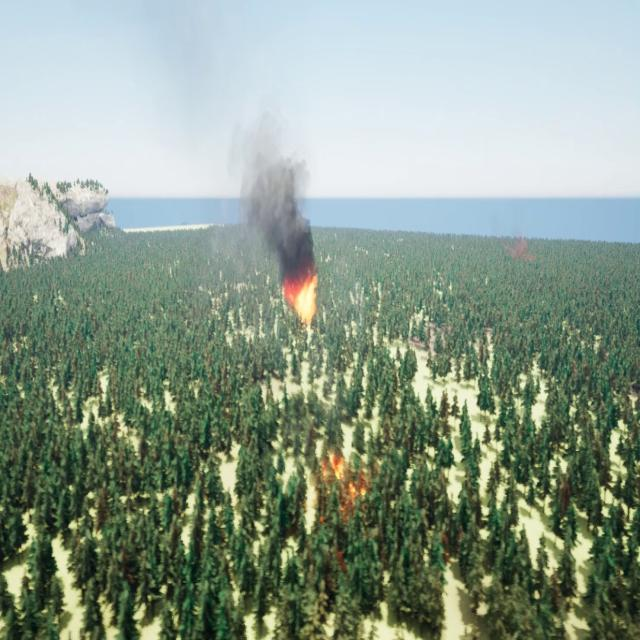fire: (320, 445, 377, 540), (279, 270, 323, 326)
smoke: (221, 115, 317, 264), (505, 234, 535, 261)
